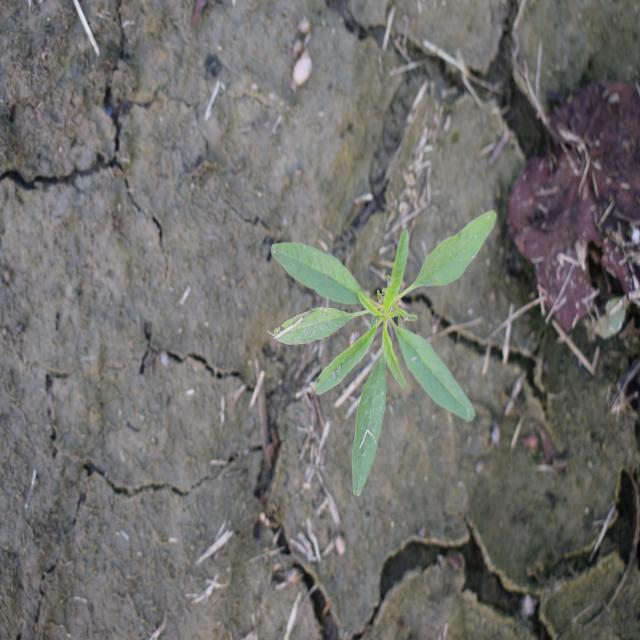Waterhemp: (270, 206, 498, 498)
